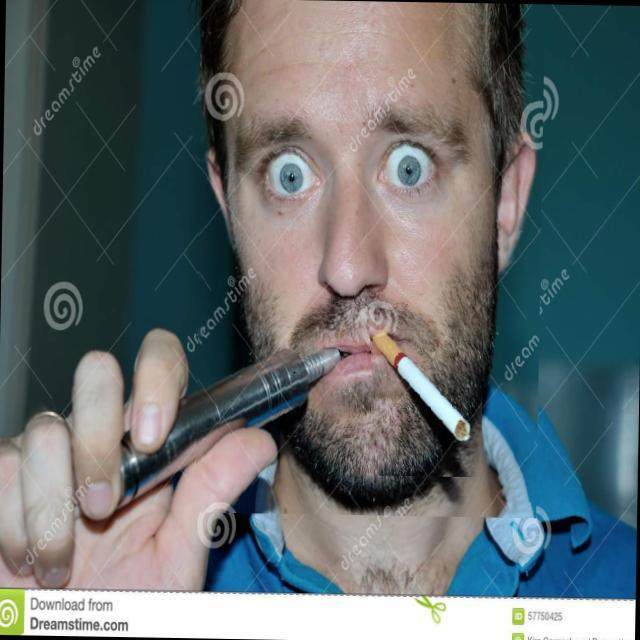cigarette: (364, 308, 484, 477)
